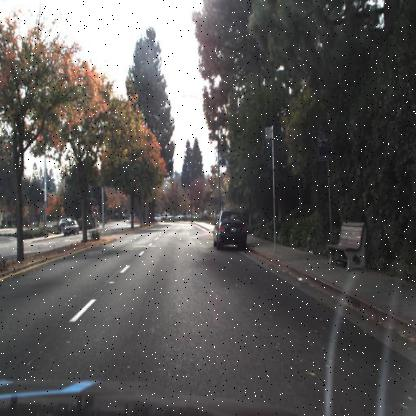car: (210, 207, 249, 252), (63, 217, 79, 237)
